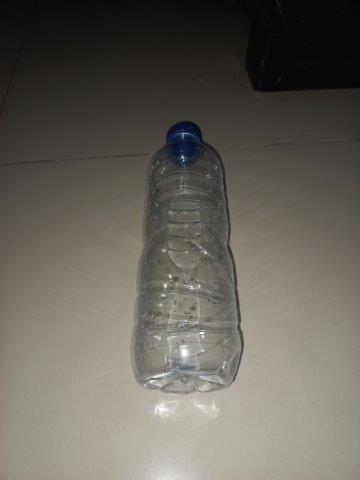botolplastik: (133, 122, 244, 397)
